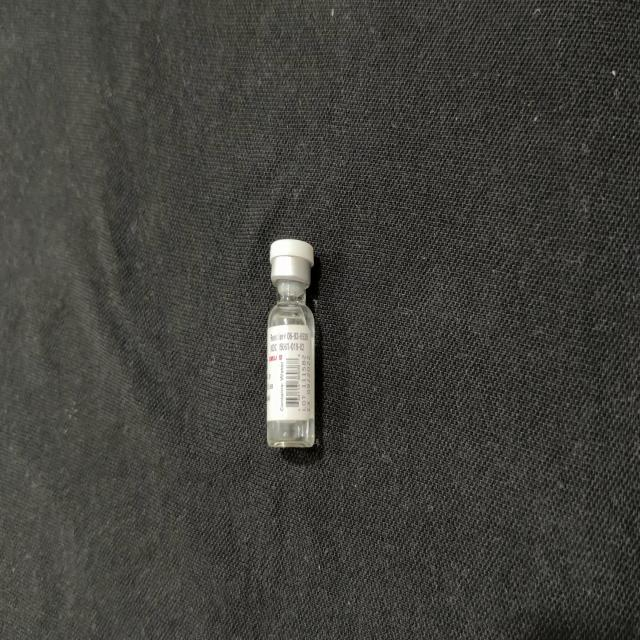fentanl_citrat: (267, 242, 315, 444)
